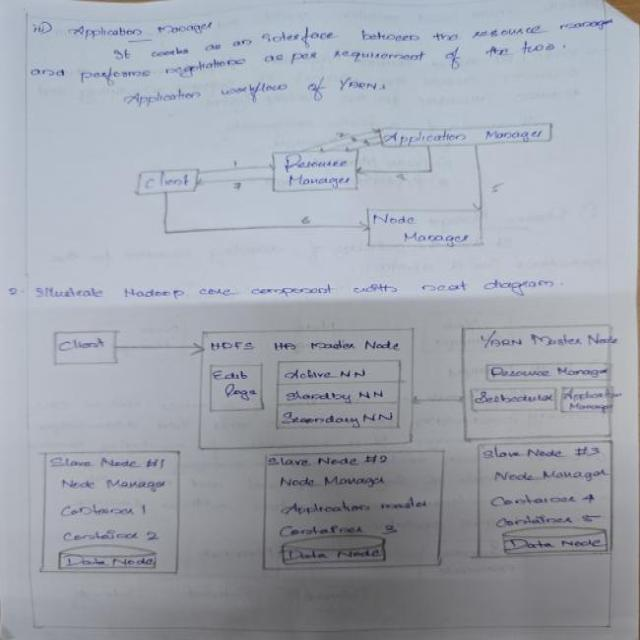Figure Detection - v3 Dataset Version2: (28, 307, 627, 584), (100, 121, 566, 254)
